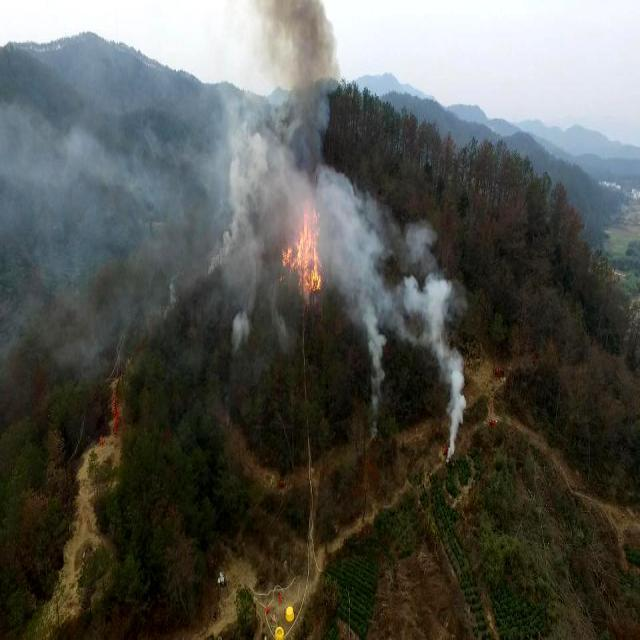Fire: (283, 206, 331, 302)
Smoke: (0, 21, 299, 359), (329, 178, 472, 454)
